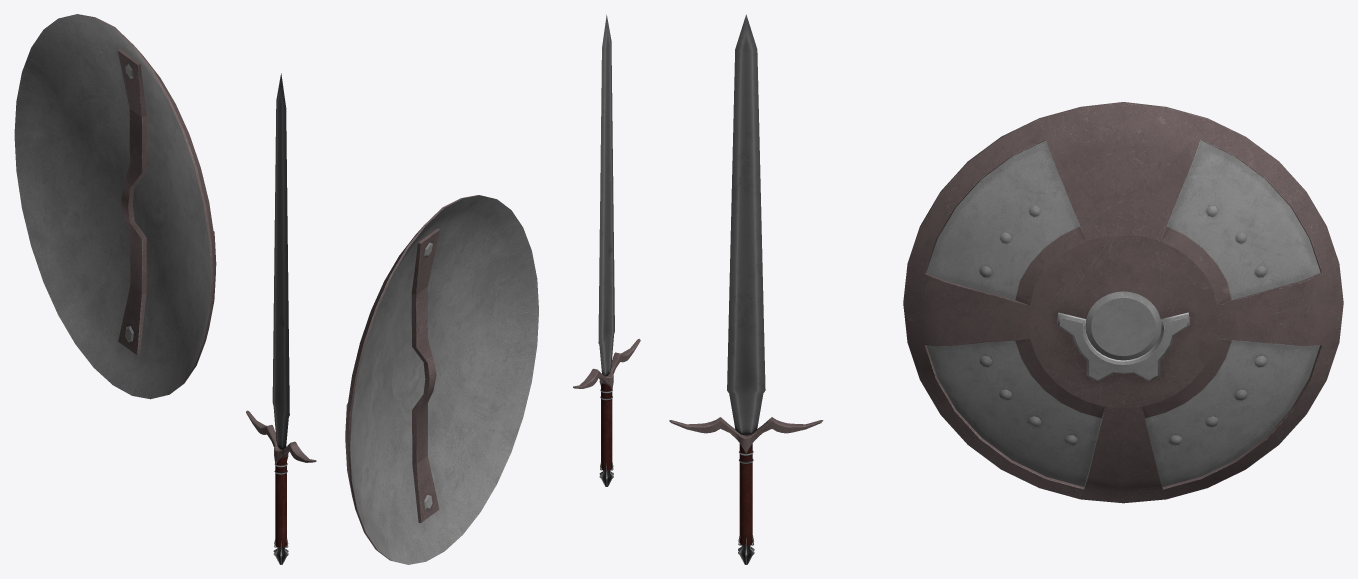
The model's file is medieval_sword_and_shield_asset_22.glb.
3 renders of one model, left to right at view 1: azimuth 30°, elevation 25°; view 2: azimuth 150°, elevation 25°; view 3: azimuth 270°, elevation 25°, orthographic. The views are drawn at different scales.
Parts seen in each view (by area): view 1: Circle.011, Circle.009; view 2: Circle.011, Circle.009; view 3: Circle.011, Circle.009.
Part boxes in pixels (x1,y1,x2,y2): Circle.011: (14,14,216,399); Circle.009: (246,73,316,564); Circle.011: (345,195,538,564); Circle.009: (573,14,640,486); Circle.011: (903,102,1343,503); Circle.009: (669,14,823,564).
Bounding box in the file's own units: 13.14 × 114 × 127.
2 materials, 2 textured.
